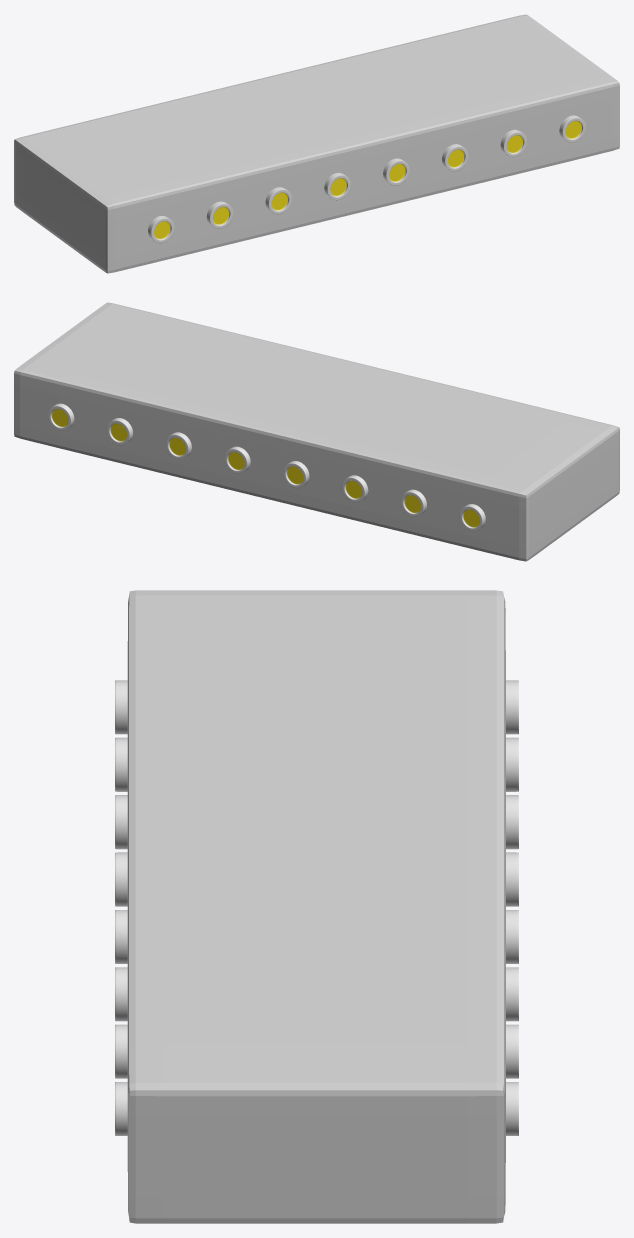
File: Ramp_7.fbx
3 renders of one model, top to bottom at view 1: azimuth 30°, elevation 25°; view 2: azimuth 150°, elevation 25°; view 3: azimuth 270°, elevation 25°, orthographic. The views are drawn at different scales.
Parts seen in each view (by area): view 1: Cube; view 2: Cube; view 3: Cube.
Boxes of the visible parts, left/top/right/bottom form: Cube: left=14, top=14, right=619, bottom=273; Cube: left=14, top=302, right=619, bottom=561; Cube: left=115, top=590, right=518, bottom=1223.
Size of the model in its own units: 87.14 by 11.09 by 29.7.
